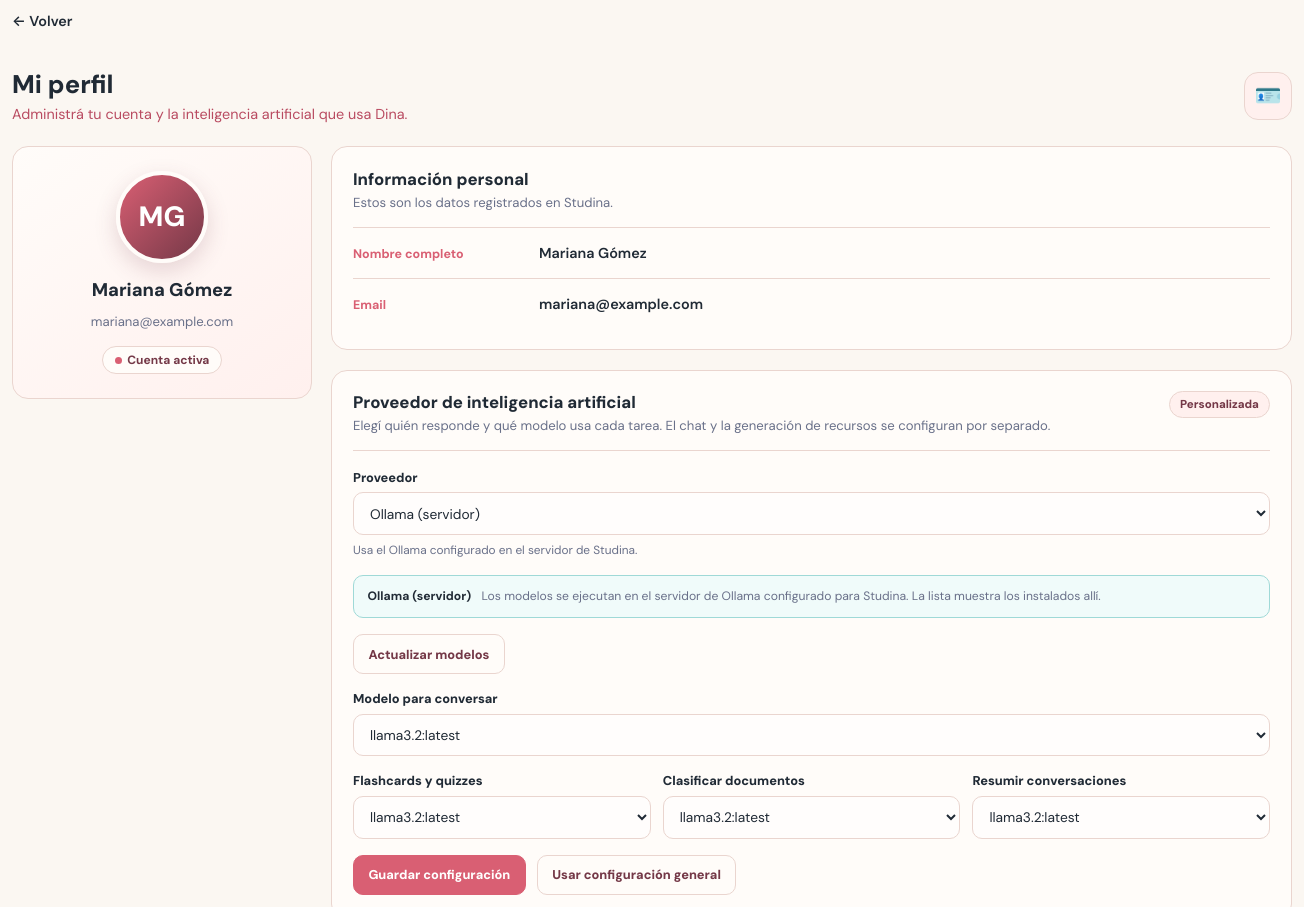
Test: ProfilePage AI settings › actualiza el catálogo después de descargar un modelo y detecta los eliminados
Check: the button "Guardar configuración" is enabled, box [353,855,526,895]
Click the button "Actualizar modelos": coordinates (429, 654) [353,634,505,674]
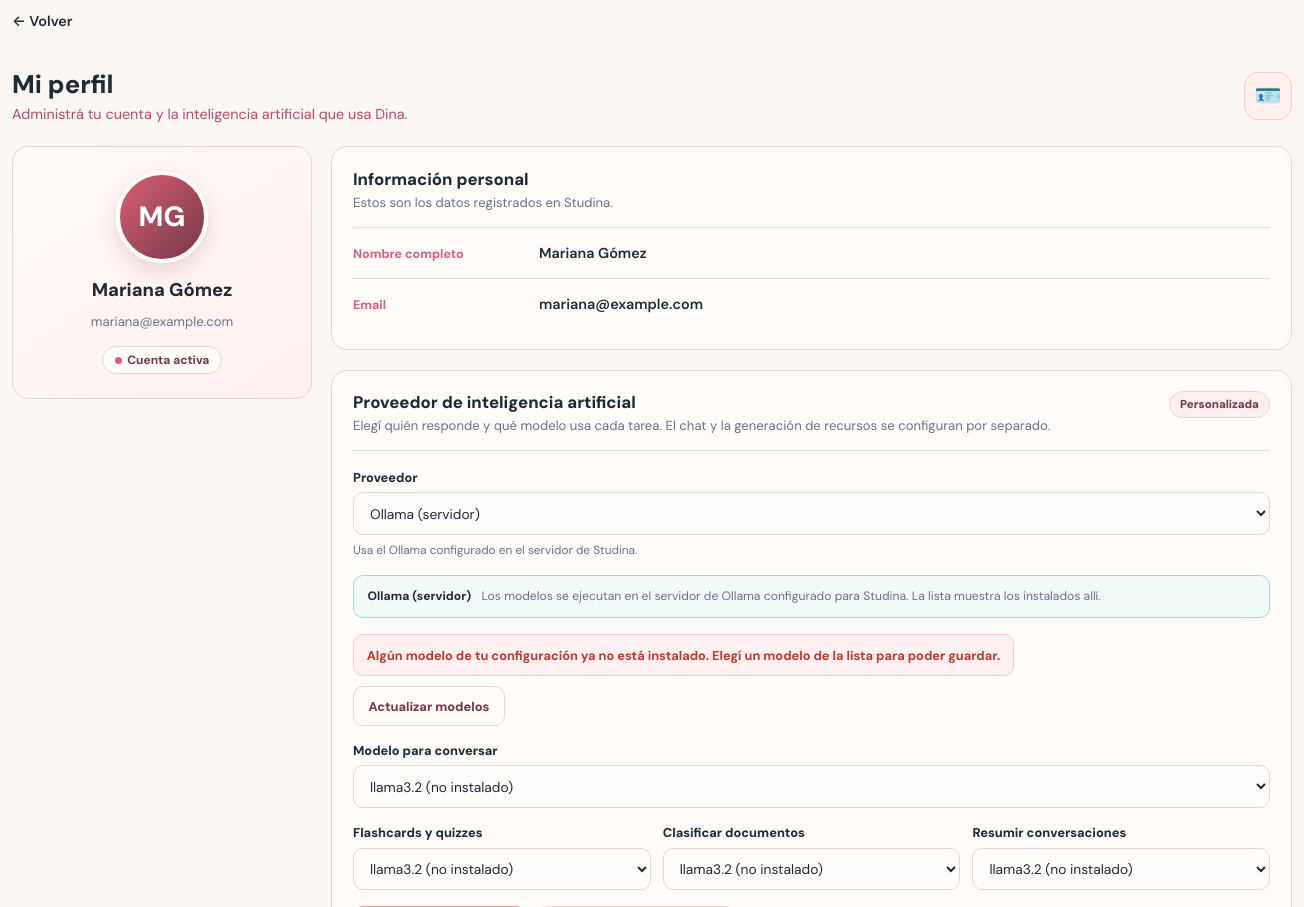
Check: the dropdown labelled "Modelo para conversar" shows "llama3.2 (no instalado)", box [353,766,1270,808]
